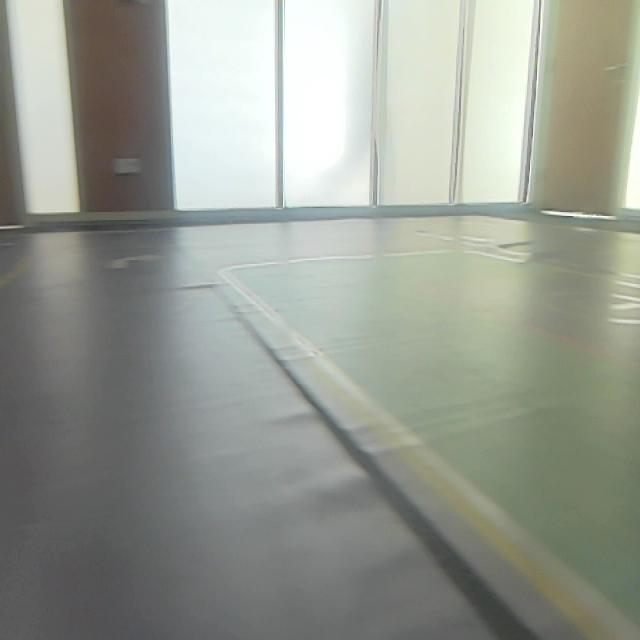left_lane: (2, 245, 48, 293)
right_lane: (224, 272, 640, 640)
